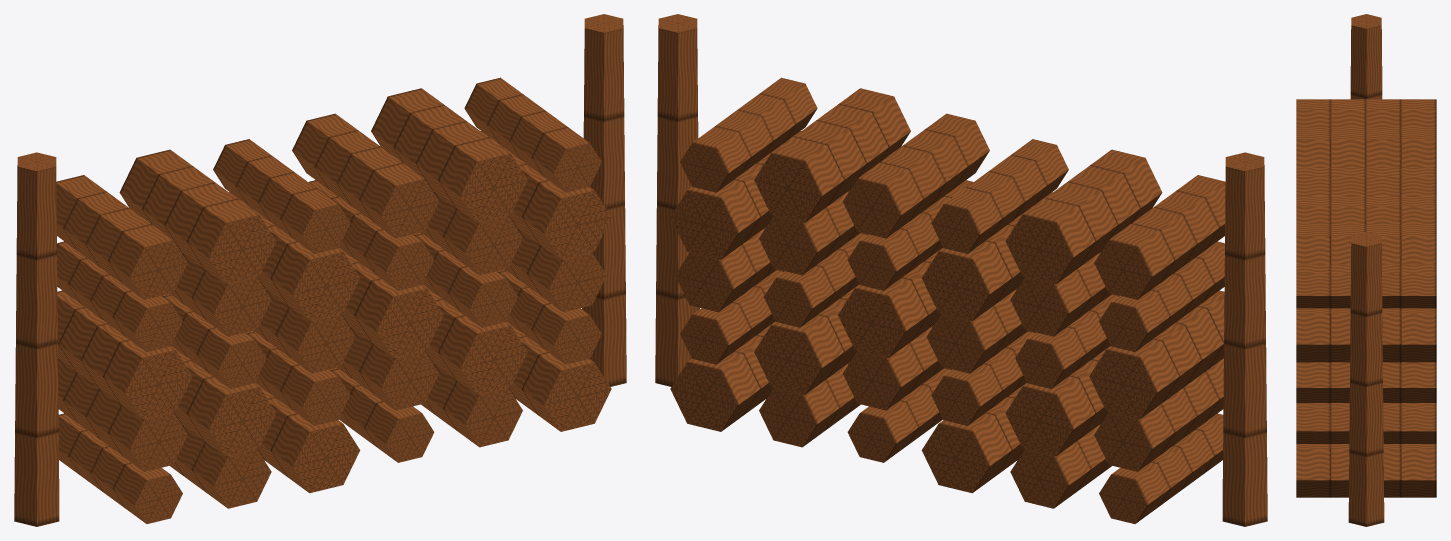
The model's file is safari-camp-and-bush-lodge-firewood-stack-abb1405f__37683.glb.
3 renders of one model, left to right at view 1: azimuth 30°, elevation 25°; view 2: azimuth 150°, elevation 25°; view 3: azimuth 270°, elevation 25°, orthographic. The views are drawn at different scales.
Visible parts, largest first — view 1: firewood-stack-timber; view 2: firewood-stack-timber; view 3: firewood-stack-timber.
Part boxes in pixels (x1,y1,x2,y2): firewood-stack-timber: (14,14,626,526); firewood-stack-timber: (655,14,1267,526); firewood-stack-timber: (1296,14,1436,526).
Bounding box in the file's own units: 1.9 × 1.05 × 0.4799.
1 material, 1 textured.
